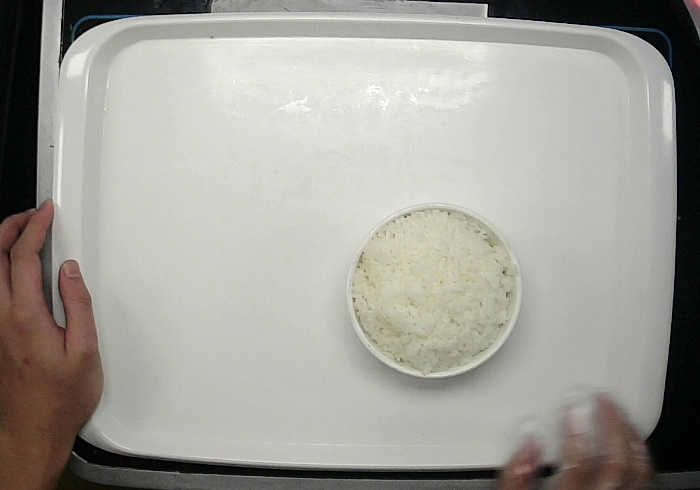HZYJPL-Fan_Wan: (347, 201, 522, 380)
